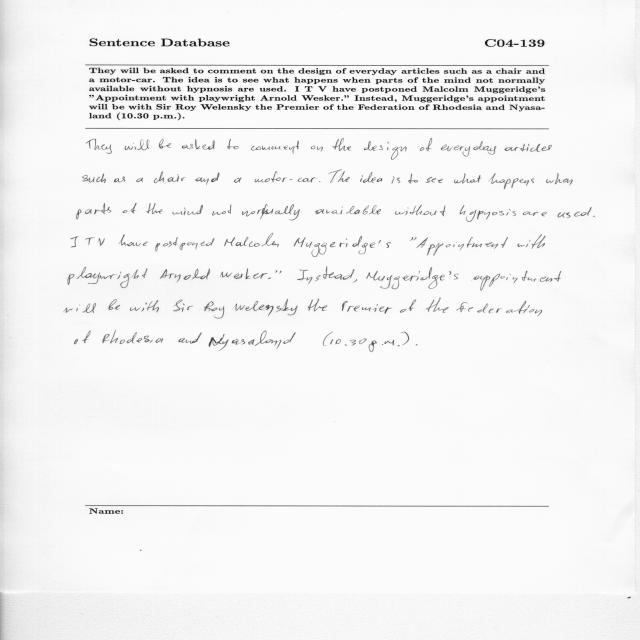word: (293, 236, 391, 257), (366, 268, 459, 290), (471, 271, 561, 291), (208, 331, 296, 351), (416, 237, 508, 256), (68, 267, 147, 288), (456, 301, 542, 316), (235, 299, 298, 316), (297, 267, 355, 284), (460, 205, 516, 222), (242, 204, 300, 220), (155, 237, 214, 252), (441, 141, 496, 157), (102, 331, 163, 345), (364, 141, 407, 160), (224, 233, 279, 247), (488, 173, 534, 189), (160, 269, 210, 283), (255, 172, 317, 183), (342, 301, 392, 314), (251, 141, 299, 154), (315, 206, 381, 215), (77, 204, 112, 220), (396, 205, 446, 216), (220, 268, 268, 279), (518, 234, 546, 249), (71, 236, 105, 248), (86, 139, 112, 154), (154, 171, 186, 183), (505, 144, 552, 152), (558, 207, 592, 218), (369, 340, 400, 352), (182, 139, 215, 150), (204, 301, 224, 319), (119, 234, 148, 246), (130, 300, 159, 312), (426, 298, 449, 313), (546, 173, 573, 185), (64, 303, 96, 313), (172, 205, 203, 215), (454, 173, 482, 184), (195, 173, 220, 185), (328, 170, 350, 183), (125, 140, 150, 151), (330, 339, 367, 346), (179, 333, 202, 344), (173, 300, 194, 312), (332, 138, 351, 151), (360, 172, 382, 183), (308, 299, 327, 311), (74, 331, 91, 344), (213, 205, 232, 216), (400, 300, 416, 313), (83, 174, 106, 183), (146, 203, 163, 214), (420, 139, 432, 152), (123, 203, 137, 214), (323, 332, 333, 346), (109, 299, 121, 310), (523, 212, 547, 217), (228, 139, 239, 149), (159, 139, 171, 148), (425, 177, 443, 183), (401, 332, 409, 345), (408, 174, 418, 184), (311, 145, 323, 152), (392, 176, 401, 184), (114, 177, 125, 183), (234, 178, 242, 183), (136, 178, 143, 182), (410, 237, 417, 241), (276, 270, 282, 274), (352, 279, 357, 283), (268, 278, 271, 279), (593, 216, 595, 217), (416, 345, 418, 346), (319, 181, 320, 182)
